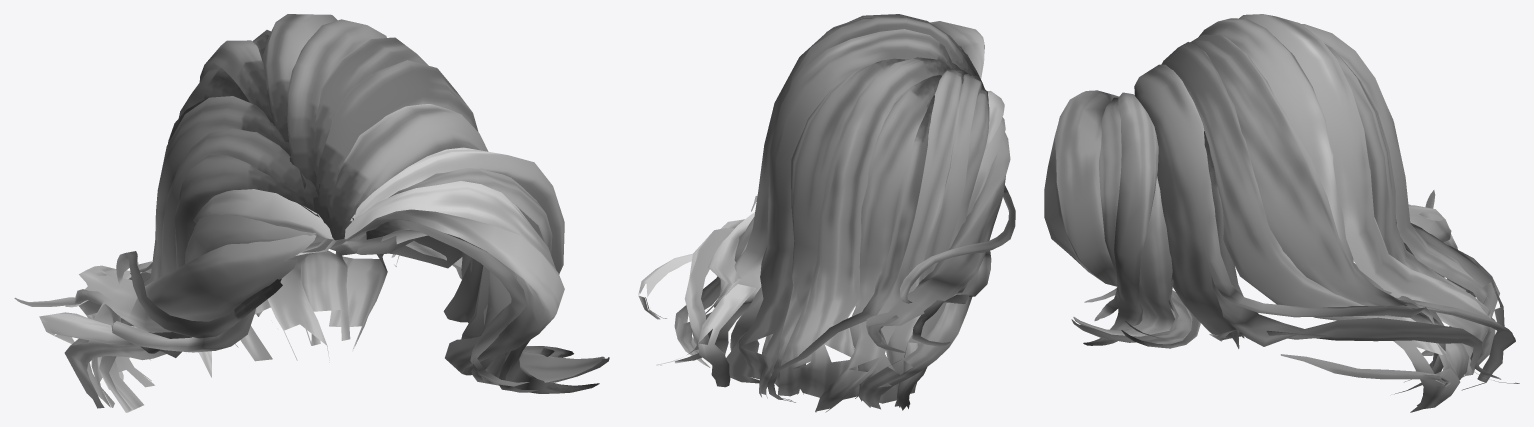
File: daz_hair_glam_wave.glb
3 renders of one model, left to right at view 1: azimuth 30°, elevation 25°; view 2: azimuth 150°, elevation 25°; view 3: azimuth 270°, elevation 25°, orthographic. The views are drawn at different scales.
Visible parts, largest first — view 1: daz_hair_glam_wave; view 2: daz_hair_glam_wave; view 3: daz_hair_glam_wave.
Boxes of the visible parts, x1,y1,x2,y2 form: daz_hair_glam_wave: (14,14,609,412); daz_hair_glam_wave: (638,14,1015,412); daz_hair_glam_wave: (1044,14,1519,412).
Bounding box in the file's own units: 0.2756 × 0.2608 × 0.3317.
Materials: 1 (1 with a texture image).
